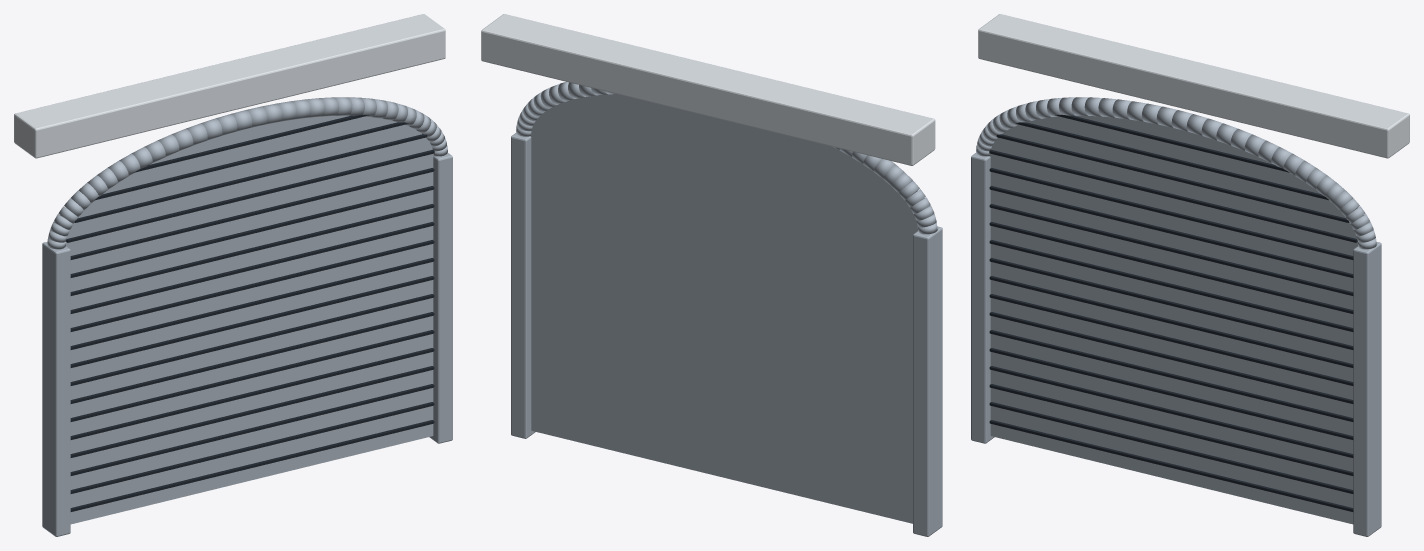
File: pedestrian-shutter.glb
The picture shows the model from 3 angles, left to right: view 1: azimuth 30°, elevation 25°; view 2: azimuth 150°, elevation 25°; view 3: azimuth 330°, elevation 25°; orthographic projection. The views are drawn at different scales.
Visible parts, largest first — view 1: Curtain, Door guide, Roller hood; view 2: Curtain, Roller hood, Door guide; view 3: Curtain, Door guide, Roller hood.
Boxes of the visible parts, x1,y1,x2,y2 form: Curtain: [65, 114, 434, 524]; Door guide: [42, 97, 452, 536]; Roller hood: [14, 14, 445, 158]; Curtain: [531, 94, 917, 523]; Roller hood: [481, 14, 935, 165]; Door guide: [511, 81, 942, 536]; Curtain: [989, 114, 1358, 524]; Door guide: [971, 97, 1381, 536]; Roller hood: [978, 14, 1409, 158].
Size of the model in its own units: 4.3 by 4 by 0.65.
